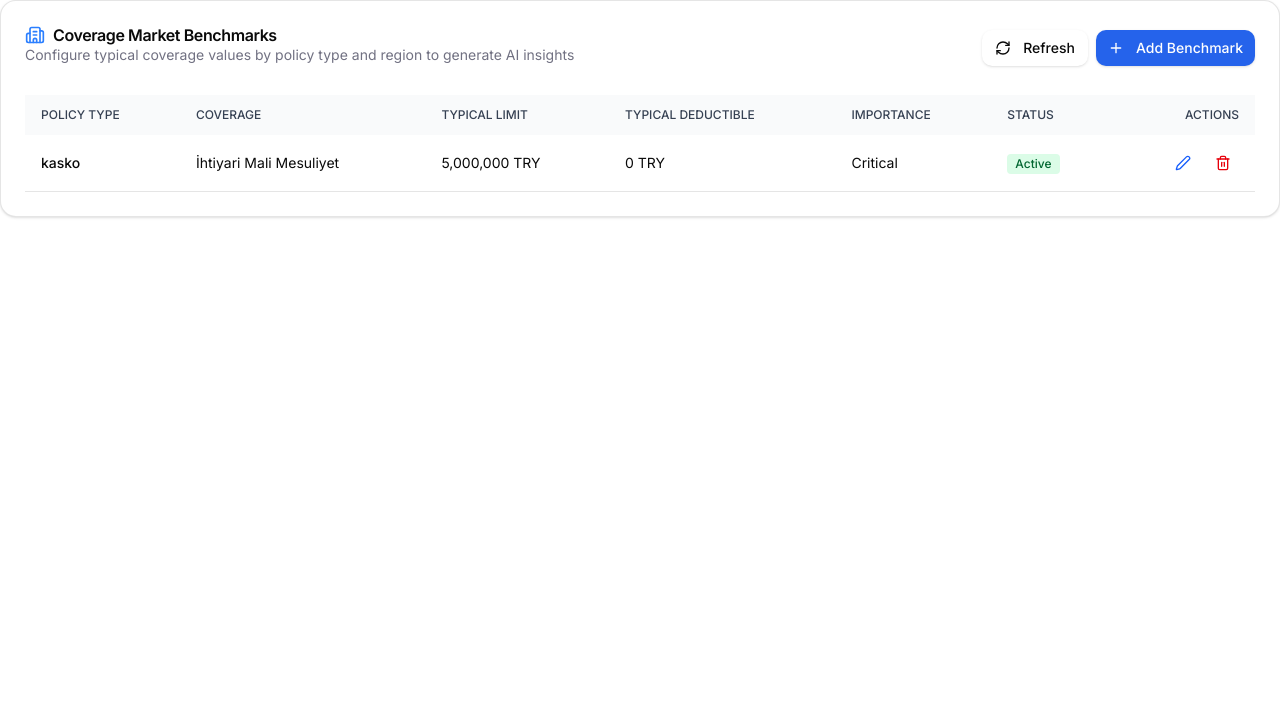
Test: MarketBenchmarksPanel › opens edit form with prepopulated data
Expected: the text "İhtiyari Mali Mesuliyet" is shown, [180,135,426,192]
Click the 1st button named "Edit" at (1183, 163), box [1167,147,1199,179]
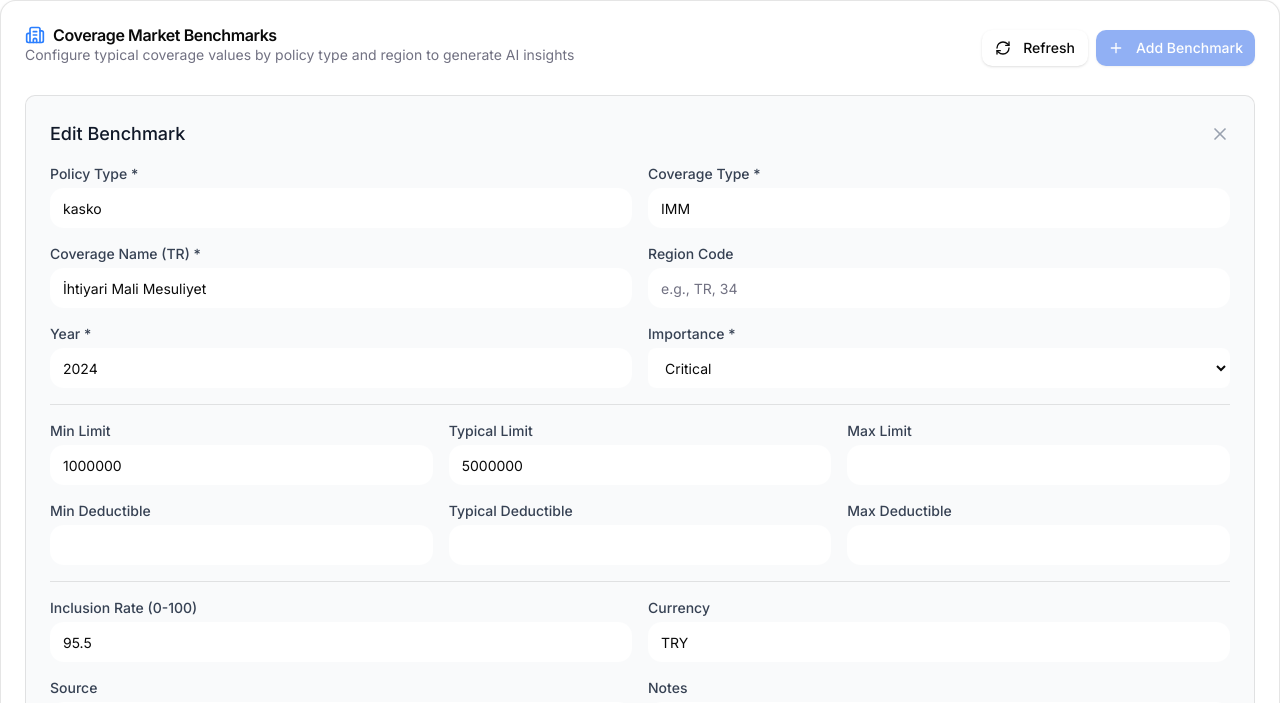
Expected: the heading "Edit Benchmark" is shown, [50,120,185,148]
Expected: the field showing "İhtiyari Mali Mesuliyet" below "Coverage Name (TR) *" is shown, [50,268,632,308]
